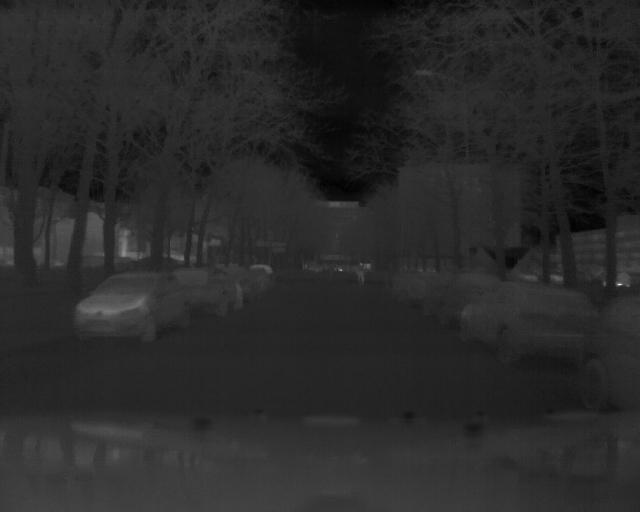car: (460, 280, 583, 364), (78, 268, 188, 336), (578, 295, 636, 409), (188, 260, 249, 310), (253, 264, 276, 291)
